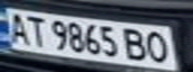5: (100, 22, 124, 58)
6: (81, 21, 103, 56)
8: (66, 20, 84, 54)
9: (45, 18, 72, 52)
A: (3, 10, 30, 45)
B: (121, 26, 151, 62)
O: (142, 29, 175, 64)
T: (21, 14, 48, 47)
